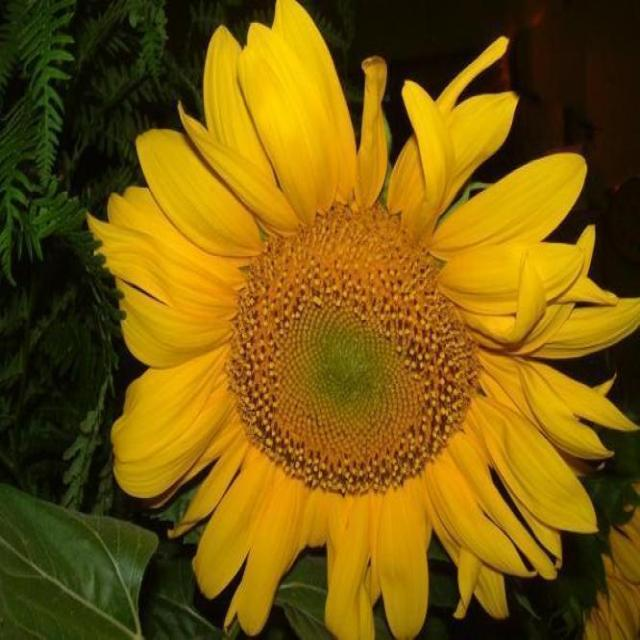sunflower: (84, 10, 640, 640)
